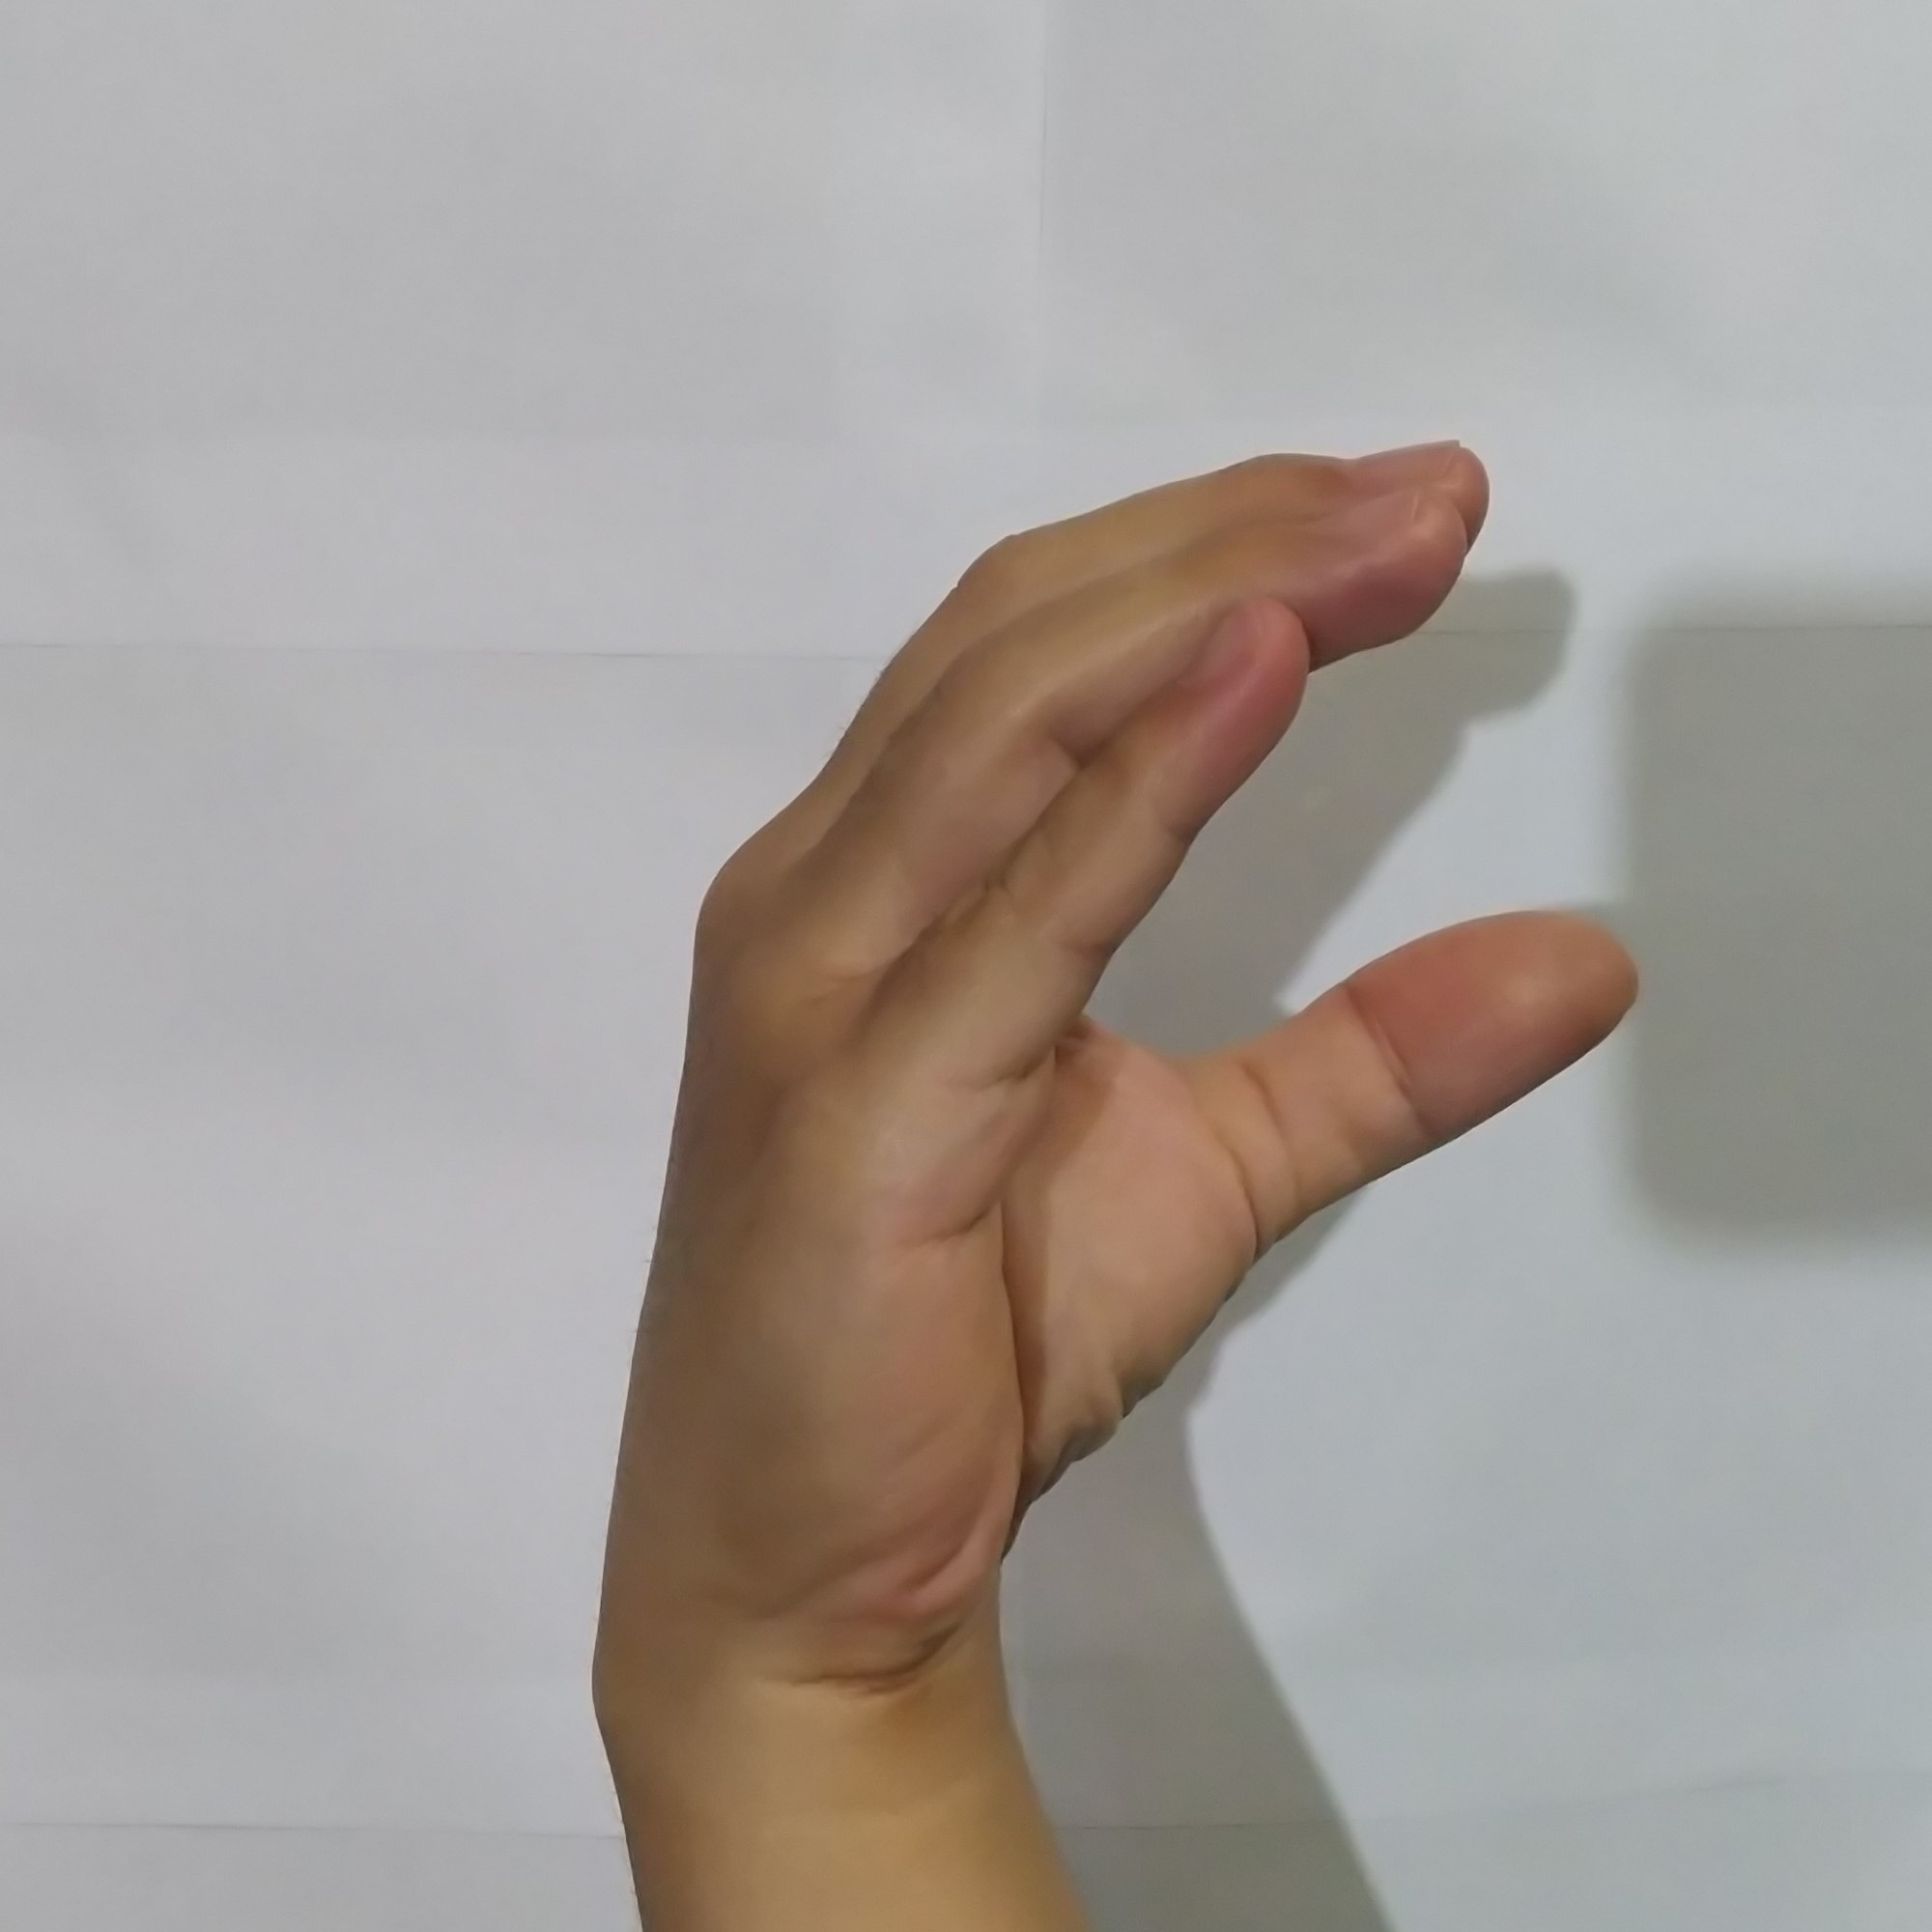C: (587, 409, 1665, 1637)
